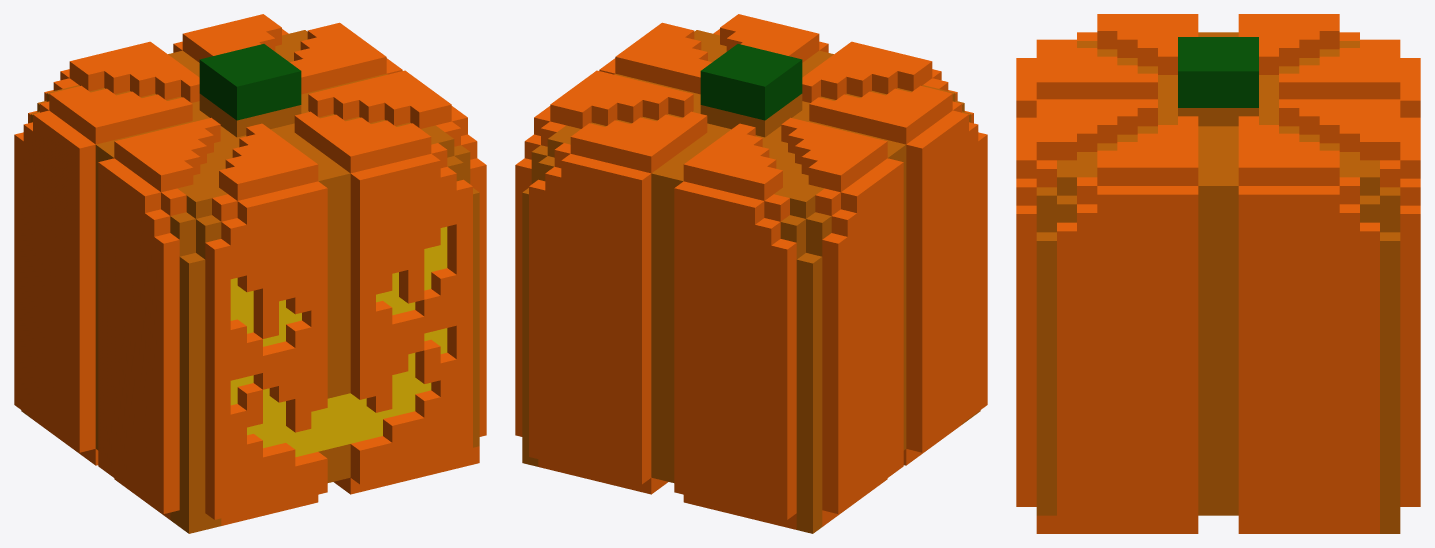
The model's file is Pumpkin.obj.
3 views of the same model, side by side, from view 1: azimuth 30°, elevation 25°; view 2: azimuth 150°, elevation 25°; view 3: azimuth 270°, elevation 25° (orthographic). The views are drawn at different scales.
Bounding box in the file's own units: 2 × 2.2 × 2.
Materials: 1 (1 with a texture image).
